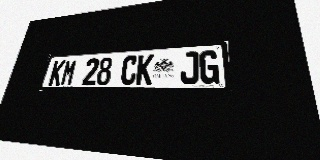2: (82, 58, 100, 85)
8: (95, 57, 114, 85)
C: (120, 55, 138, 85)
G: (199, 50, 219, 84)
J: (180, 51, 199, 84)
K: (135, 54, 154, 85), (48, 60, 66, 86)
M: (60, 59, 78, 85)
